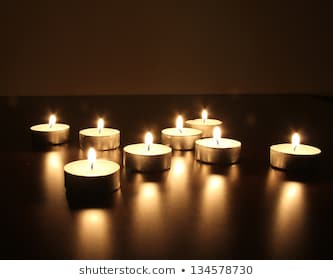Fire: (287, 126, 304, 147), (85, 145, 99, 167), (95, 112, 105, 134), (175, 114, 185, 133), (212, 125, 222, 143), (46, 114, 58, 129), (144, 131, 153, 149), (199, 106, 208, 120)
